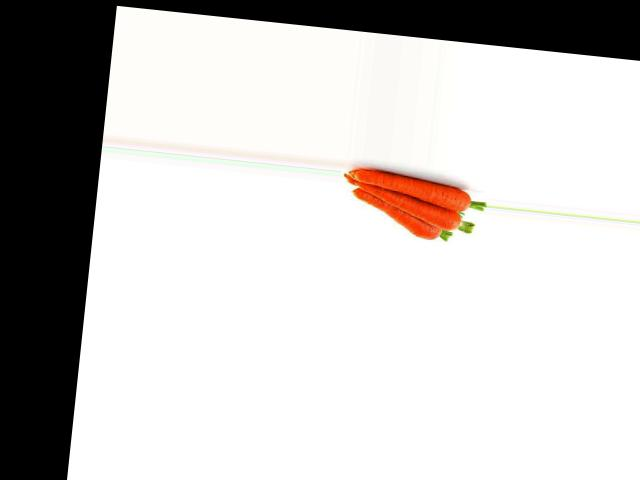carrot: (346, 168, 480, 210)
